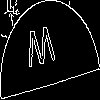W: (25, 24, 57, 78)
